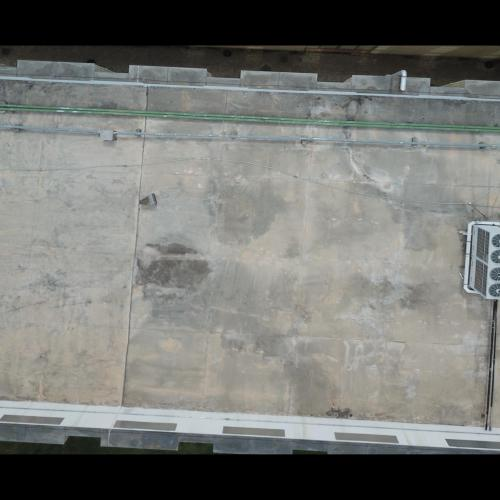conde: (470, 222, 500, 266), (470, 266, 500, 303)
